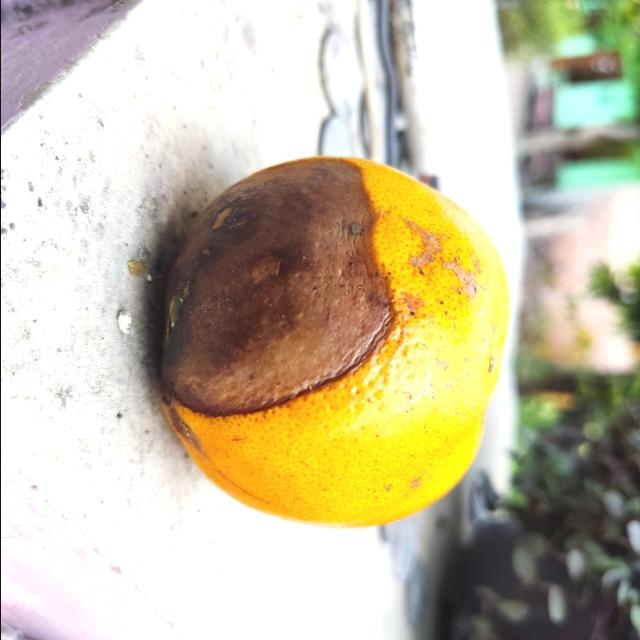agrume: (155, 155, 509, 533)
